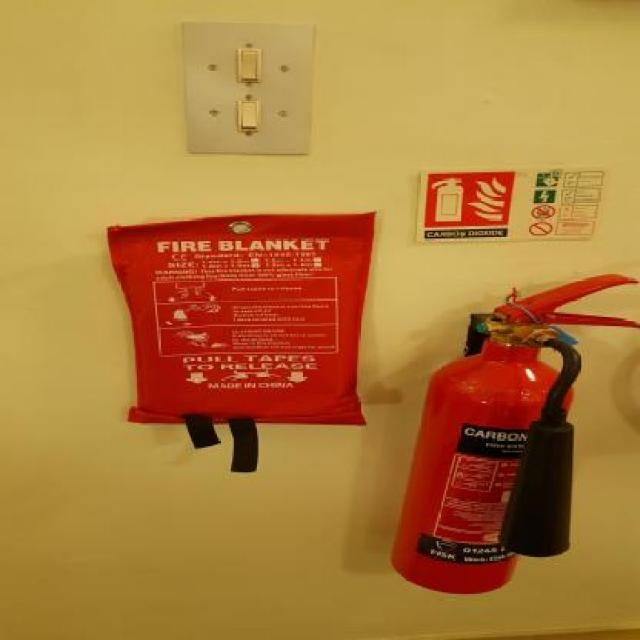fire extinguisher: (389, 274, 640, 594)
